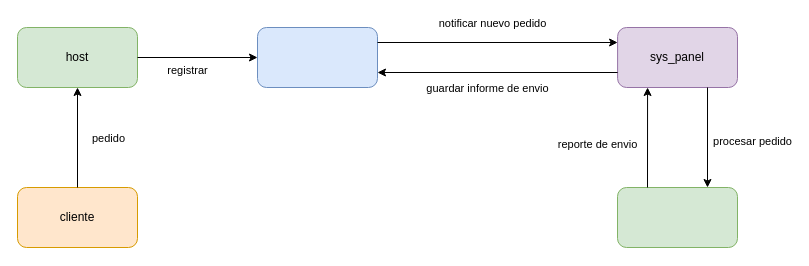
This 809x266 diagram has some shape labels left out. Here are the shapes that lost their labels. From the top down, the box of each, then its label:
(256, 26, 378, 88): Back_end
(616, 186, 738, 248): empleado
